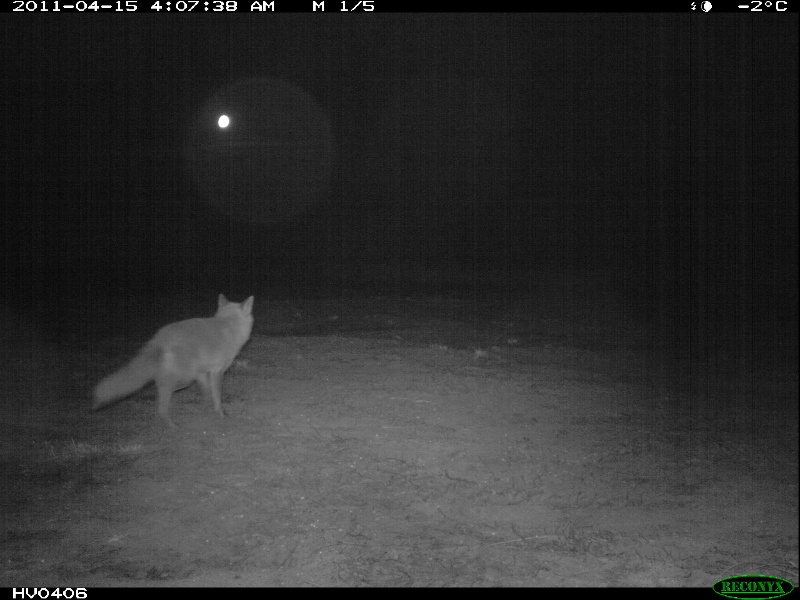fox: (93, 290, 264, 426)
